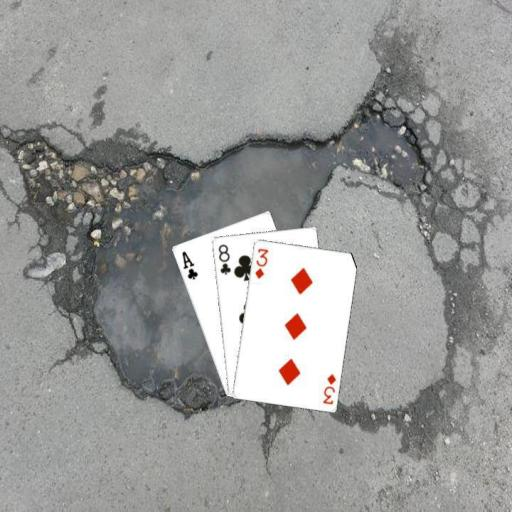card-corner: (179, 247, 199, 281), (319, 370, 337, 406), (252, 246, 270, 280), (215, 241, 232, 276)
